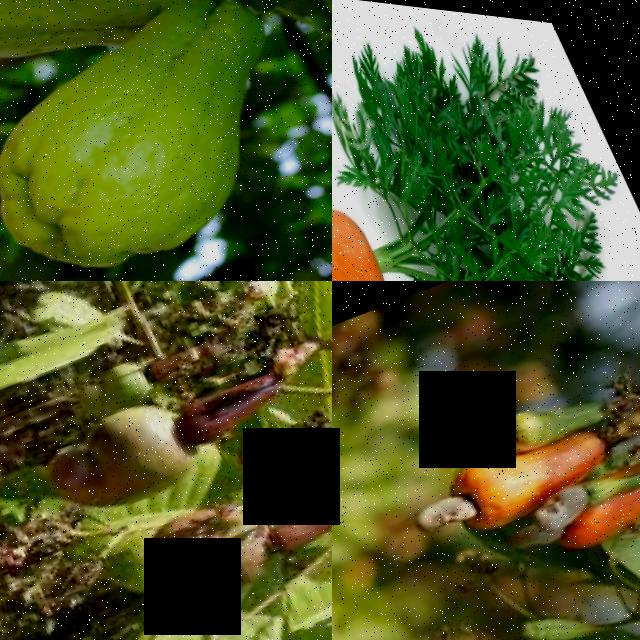carrot: (332, 85, 471, 281)
cashew: (35, 375, 203, 525), (139, 468, 287, 617), (402, 470, 484, 551), (447, 401, 523, 470), (532, 470, 601, 530)
chayote: (0, 0, 332, 281), (0, 0, 217, 118)
